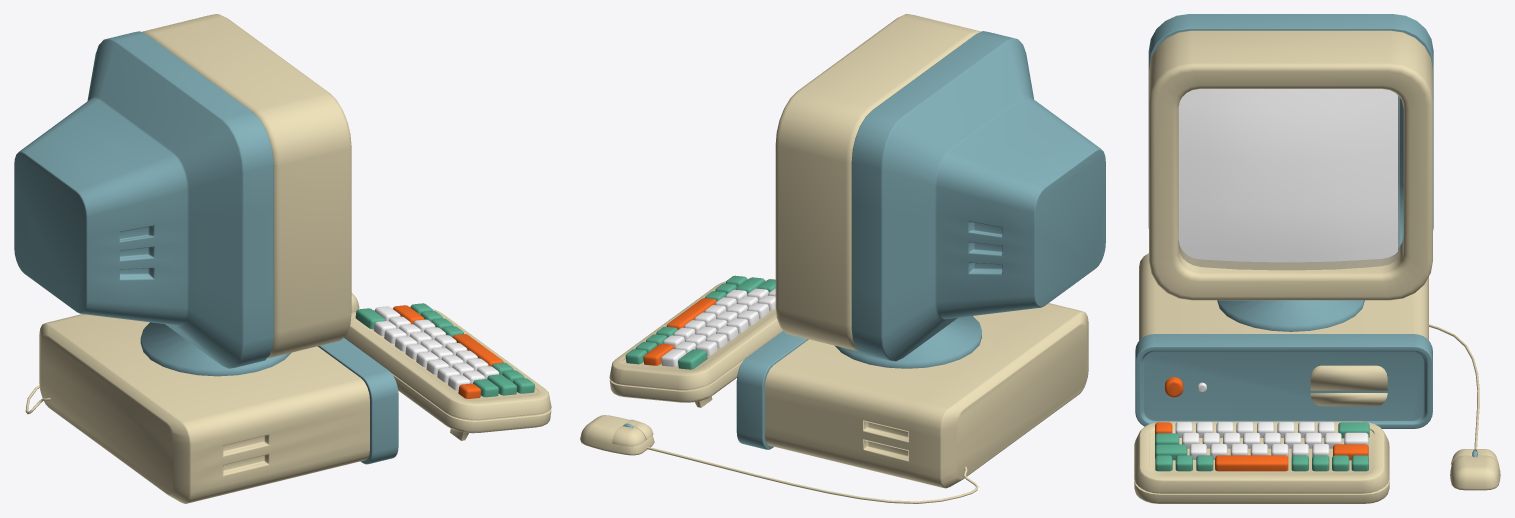
File: cute-monitor.glb
3 views of the same model, side by side, from view 1: azimuth 30°, elevation 25°; view 2: azimuth 150°, elevation 25°; view 3: azimuth 270°, elevation 25° (orthographic). The views are drawn at different scales.
Visible parts, largest first — view 1: backside, cpu-back, front, keyboard, key-2, cpu-front, stand, key-3, key-1; view 2: backside, cpu-back, front, keyboard, key-2, cpu-front, stand, mouse, key-3, wire, key-1; view 3: screen-glass, screen, front, cpu-front, keyboard, cpu-back, backside, key-2, stand, key-3, cpu-cd, key-1 (+2 smaller).
Boxes of the visible parts, box(x1,y1,x2,y2) form: backside: box(14, 31, 273, 368); cpu-back: box(39, 314, 369, 503); front: box(142, 14, 351, 358); keyboard: box(344, 306, 551, 440); key-2: box(373, 306, 499, 390); cpu-front: box(318, 337, 398, 464); stand: box(140, 322, 291, 376); key-3: box(355, 303, 534, 397); key-1: box(393, 305, 503, 398); backside: box(851, 31, 1105, 361); cpu-back: box(765, 303, 1088, 488); front: box(775, 14, 981, 350); keyboard: box(609, 278, 783, 407); key-2: box(661, 288, 775, 366); cpu-front: box(736, 331, 808, 449); stand: box(835, 316, 981, 368); mouse: box(580, 415, 654, 455); key-3: box(625, 275, 775, 369); wire: box(647, 446, 978, 503); key-1: box(643, 298, 716, 365); screen-glass: box(1178, 89, 1399, 270); screen: box(1178, 89, 1397, 262); front: box(1149, 30, 1432, 300); cpu-front: box(1135, 334, 1432, 428); keyboard: box(1134, 421, 1389, 503); cpu-back: box(1139, 253, 1428, 340); backside: box(1148, 14, 1433, 247); key-2: box(1175, 422, 1368, 459); stand: box(1217, 300, 1364, 331); key-3: box(1155, 422, 1369, 471); cpu-cd: box(1310, 365, 1387, 406); key-1: box(1155, 422, 1368, 471).
Size of what is drawn, in the model's own units: 3.73 by 3.01 by 2.87.
